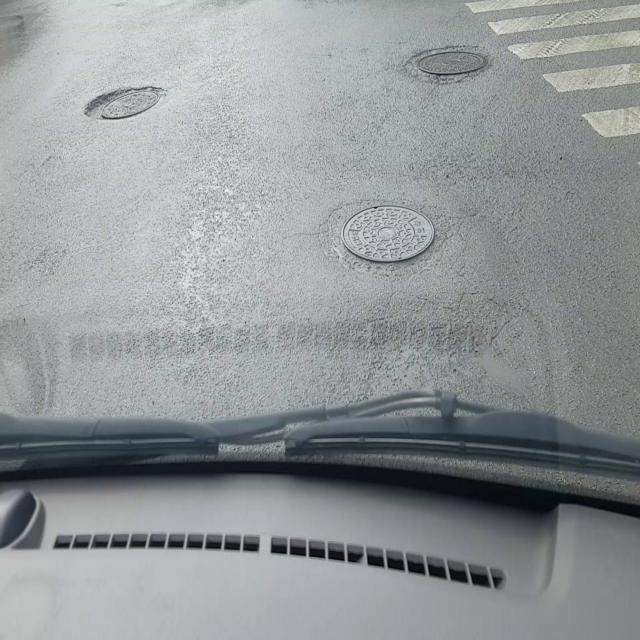Pothole: (82, 84, 168, 122)
